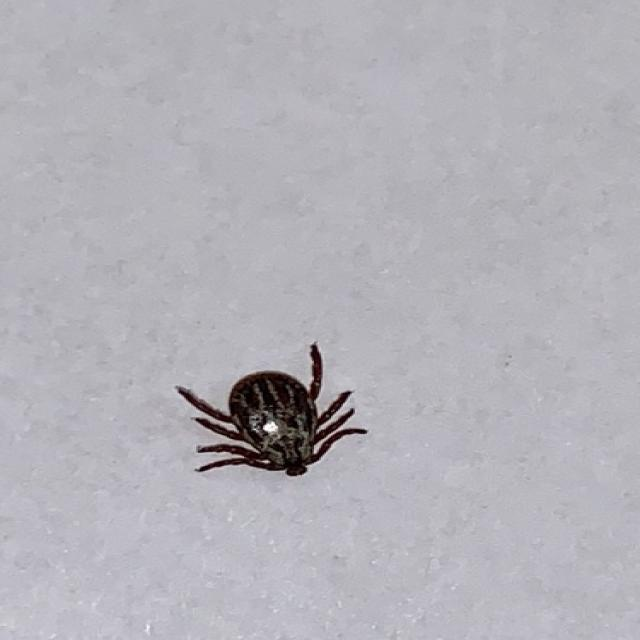Dermacentor Reticulatus-M: (176, 346, 367, 480)
